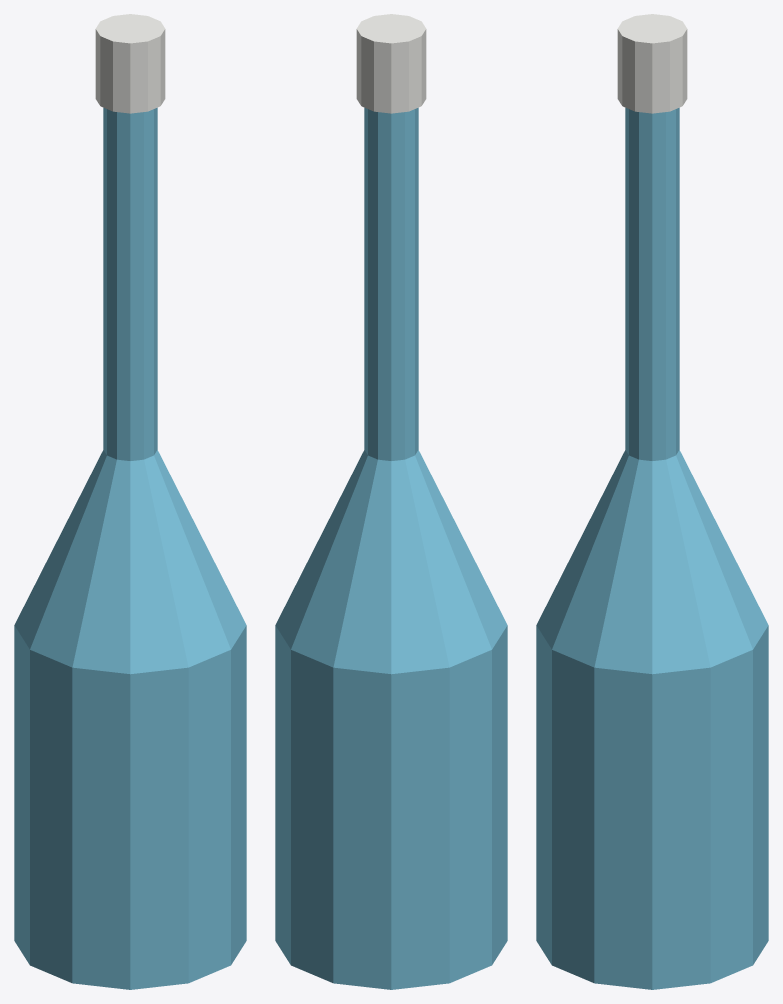
File: bottle_skin_3.glb
3 renders of one model, left to right at view 1: azimuth 30°, elevation 25°; view 2: azimuth 150°, elevation 25°; view 3: azimuth 270°, elevation 25°, orthographic.
Visible parts, largest first — view 1: bottle_skin_3; view 2: bottle_skin_3; view 3: bottle_skin_3.
Part boxes in pixels (<box>): bottle_skin_3: <box>14,14,246,989</box>; bottle_skin_3: <box>275,14,507,989</box>; bottle_skin_3: <box>536,14,768,989</box>.
Size of the model in its own units: 0.4615 by 2 by 0.4615.
